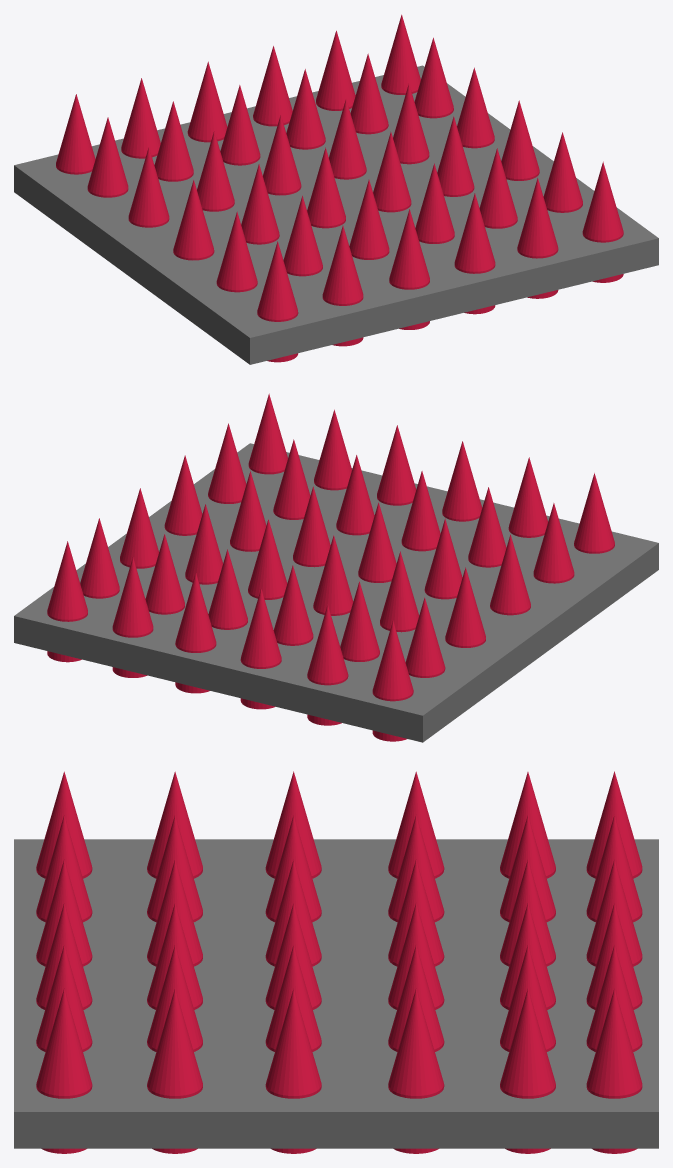
File: trampa.fbx
The picture shows the model from 3 angles, top to bottom: view 1: azimuth 30°, elevation 25°; view 2: azimuth 150°, elevation 25°; view 3: azimuth 270°, elevation 25°; orthographic projection. The views are drawn at different scales.
Visible parts, largest first — view 1: pinchos, trampa; view 2: pinchos, trampa; view 3: trampa, pinchos.
Boxes of the visible parts, x1,y1,x2,y2 form: pinchos: (56,14,623,362); trampa: (14,65,658,364); pinchos: (47,393,614,741); trampa: (14,443,658,742); trampa: (14,839,658,1148); pinchos: (36,771,642,1153).
Bounding box in the file's own units: 599 × 158 × 599.
